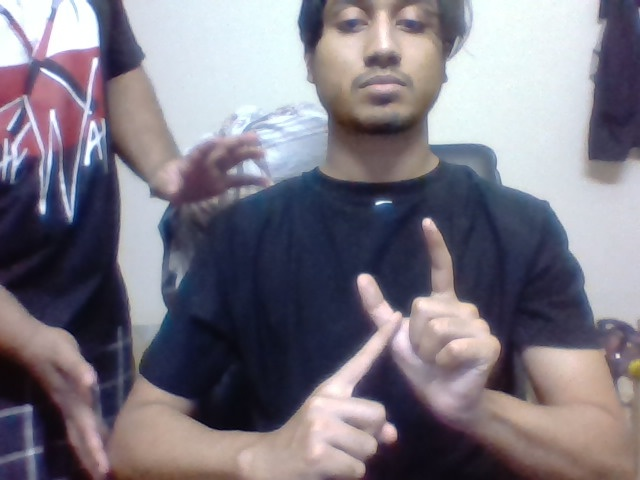Y: (337, 206, 466, 390)
